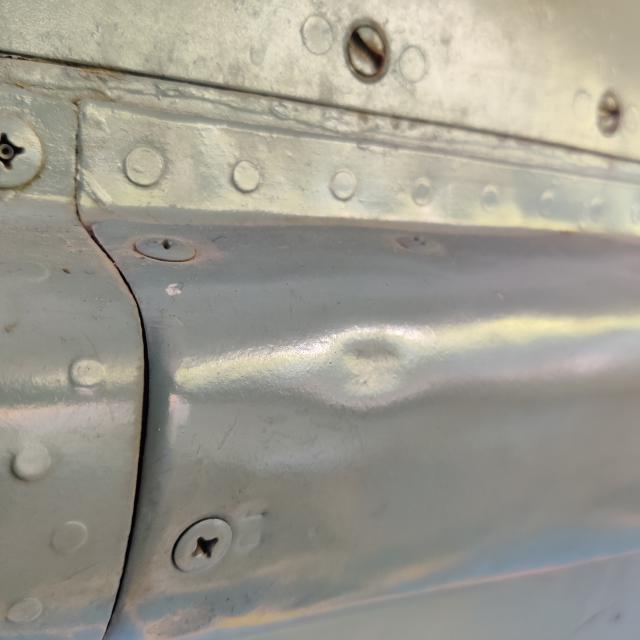Dent: (304, 328, 434, 413)
